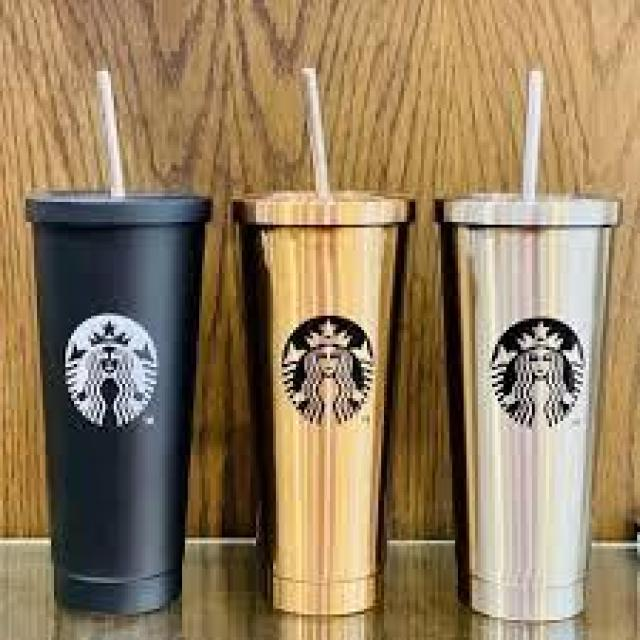bottle: (432, 68, 623, 623), (228, 68, 418, 614), (26, 68, 208, 618)
